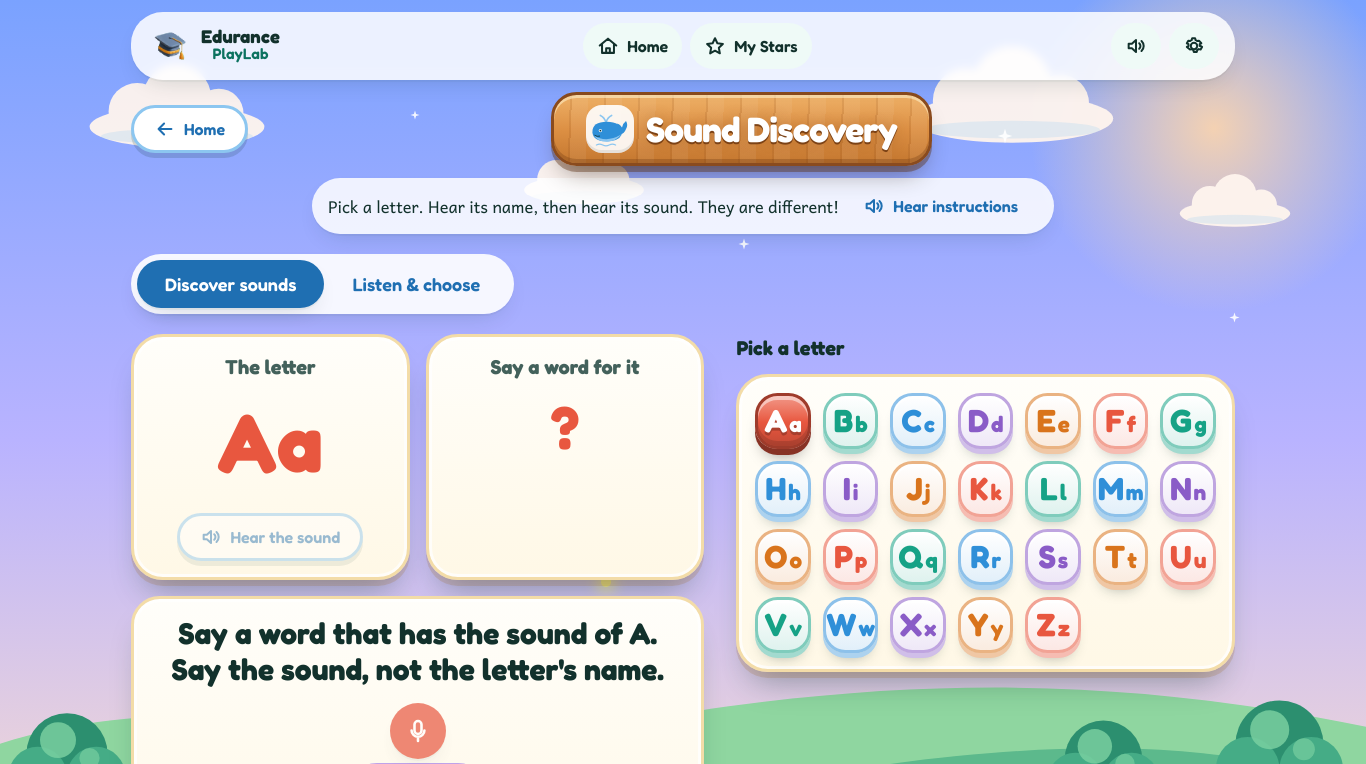
Sound Discovery: the sounds tab › switches letters from the grid
Click the button named "Letter M," at (1121, 489), box [1093, 461, 1148, 517]
(page scrolled)
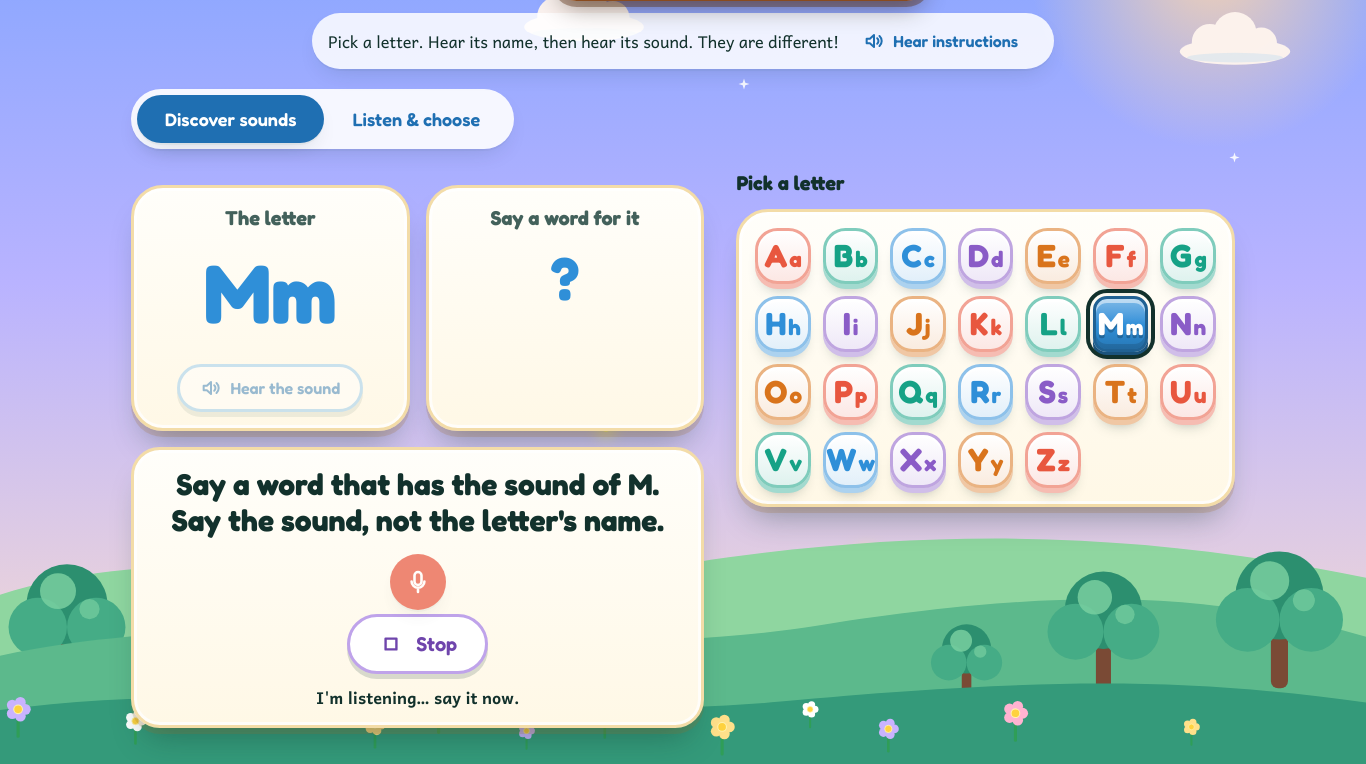
Result: the element named "About the letter M" is shown at [131, 169, 704, 728]
